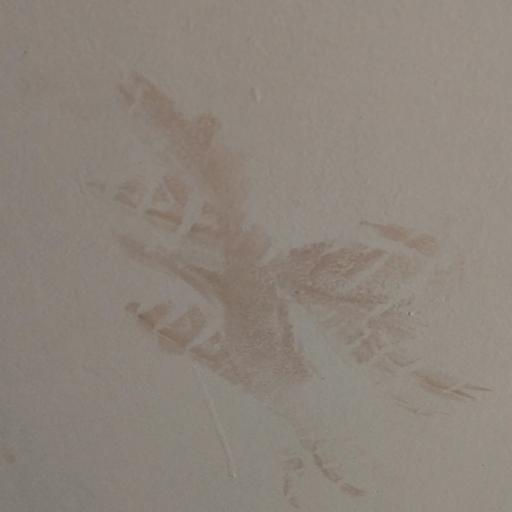stain: (92, 51, 512, 512)
